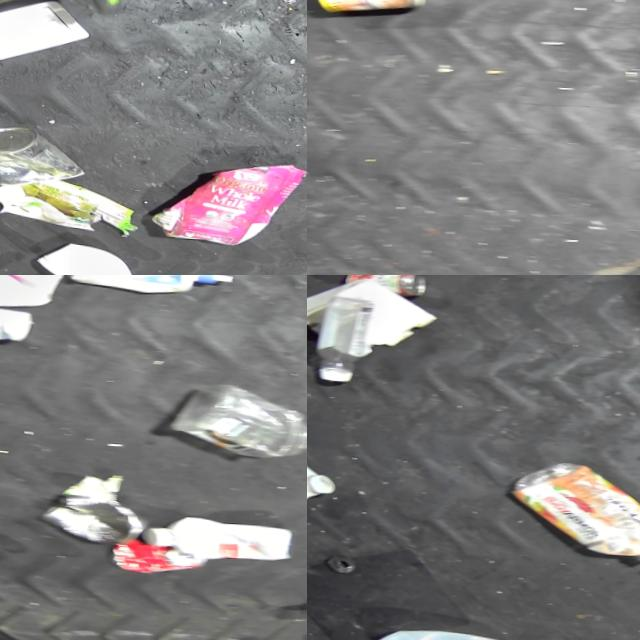can: (30, 474, 142, 546), (0, 121, 79, 187), (84, 538, 204, 573), (307, 0, 424, 16), (339, 275, 425, 295)
milk_jug: (0, 0, 91, 70), (307, 456, 330, 508)
plastic_bottle: (307, 294, 374, 383)
